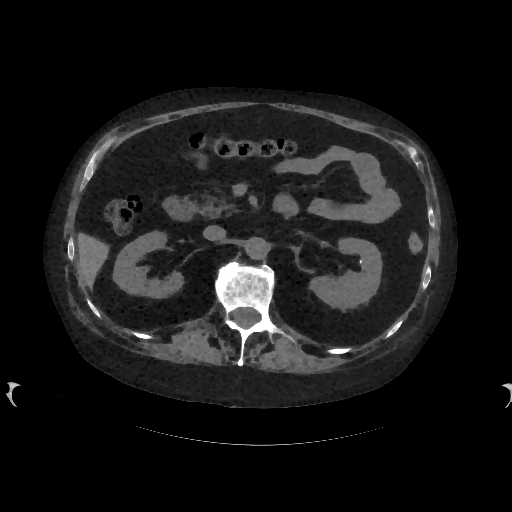Lesion: (356, 253, 363, 267)
